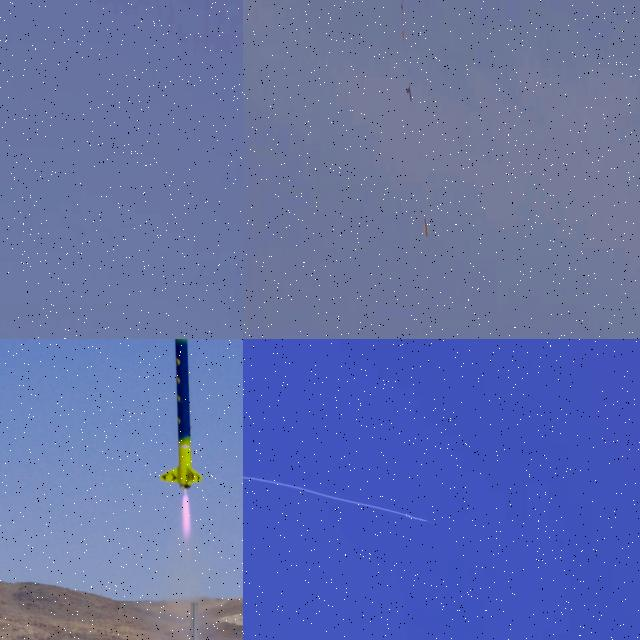Rocket: (160, 339, 203, 490), (424, 218, 428, 237), (428, 521, 434, 525)
